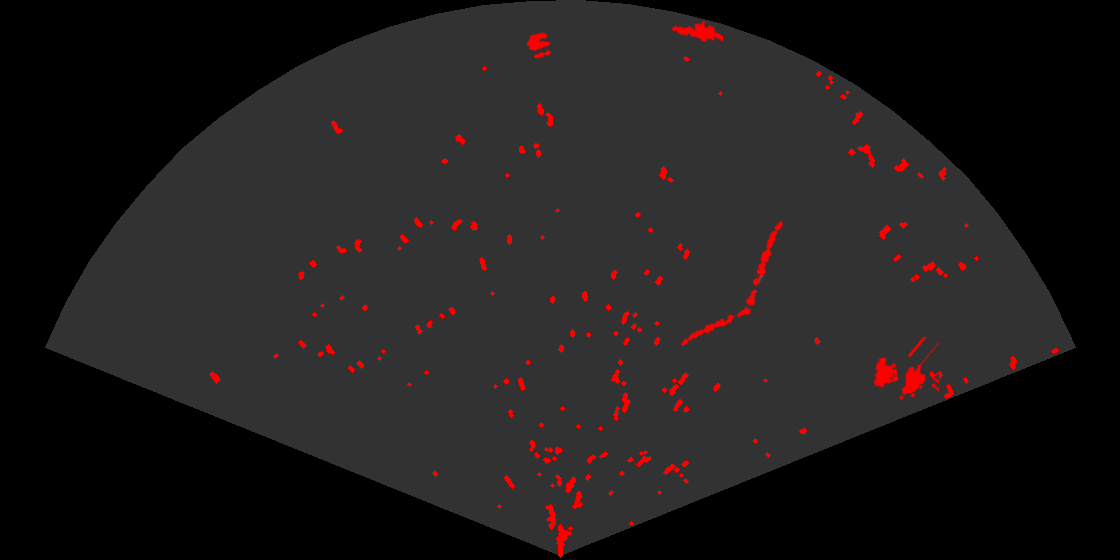ball: (525, 31, 553, 60)
cage: (872, 337, 939, 402)
chain: (744, 219, 785, 309), (679, 305, 754, 348)
frogman: (670, 19, 723, 44)
